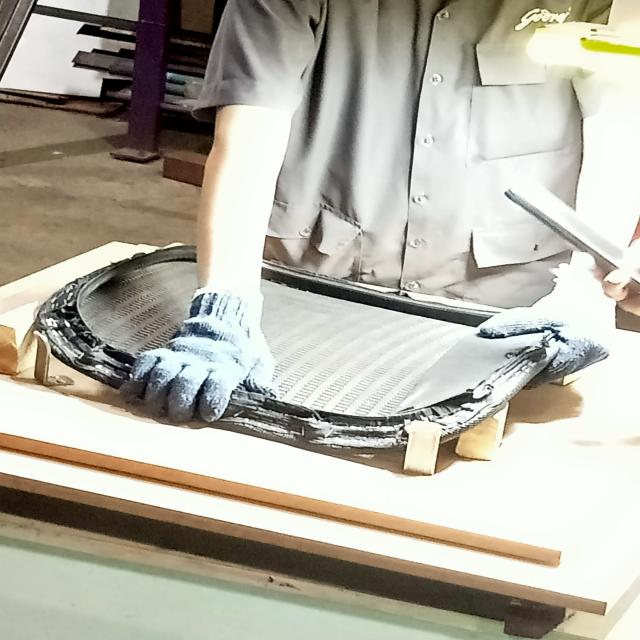Gloves-Detection: (175, 291, 251, 415), (489, 304, 594, 373)
